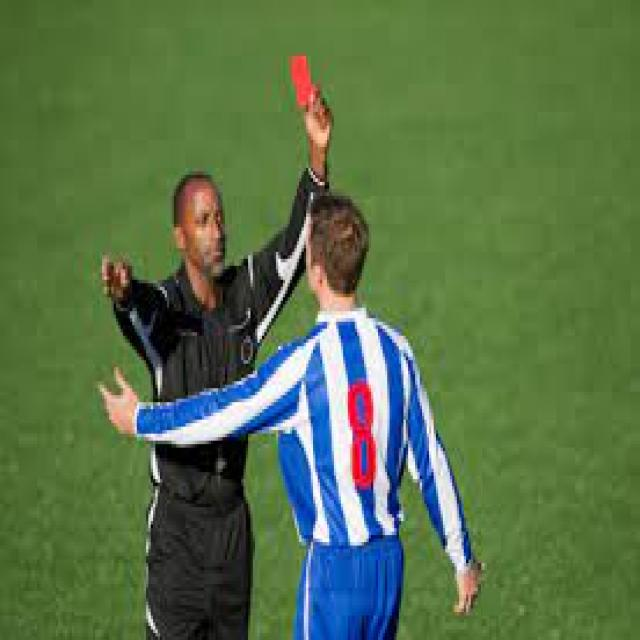red-card: (286, 49, 340, 169)
